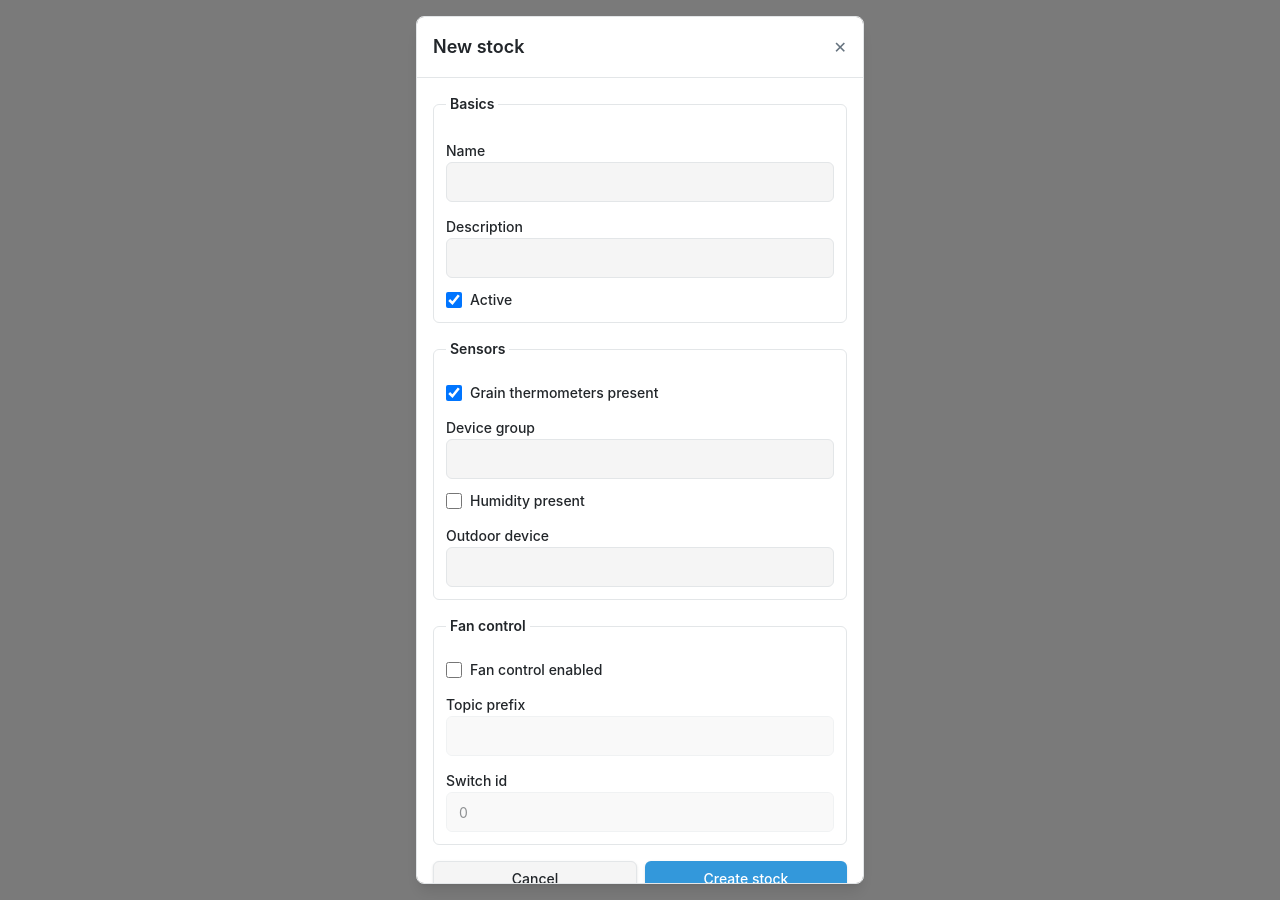
Test: StockFormDialog validation › rejects fan control without a topic prefix
The width and height of the screenshot is (1280, 900).
Type "Halle Süd" into the field labelled "Name".
click(640, 182); type("Halle Süd")  # box [446,162,834,202]
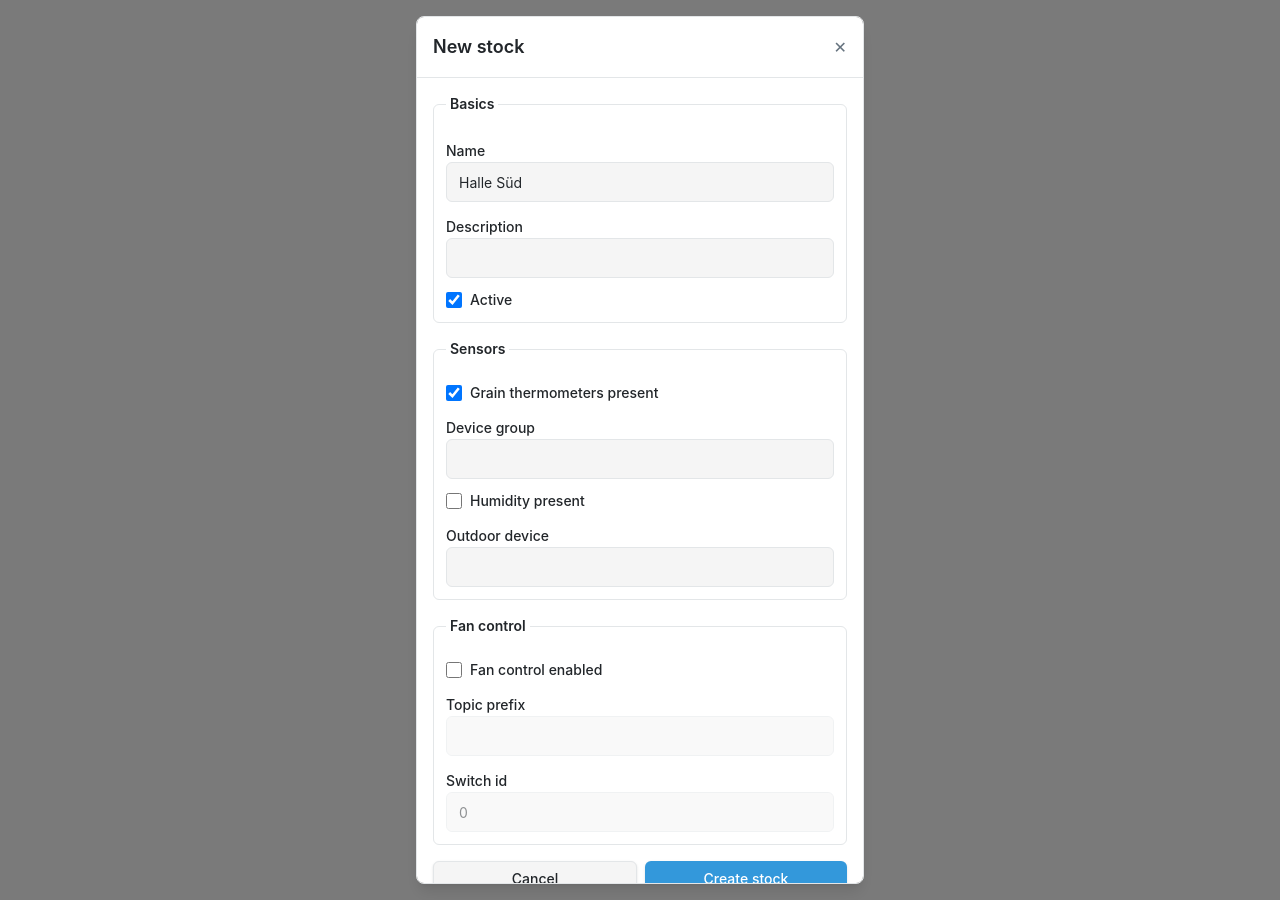
Type "grain-watch-2" into the field labelled "Device group".
click(640, 459); type("grain-watch-2")  # box [446,439,834,479]
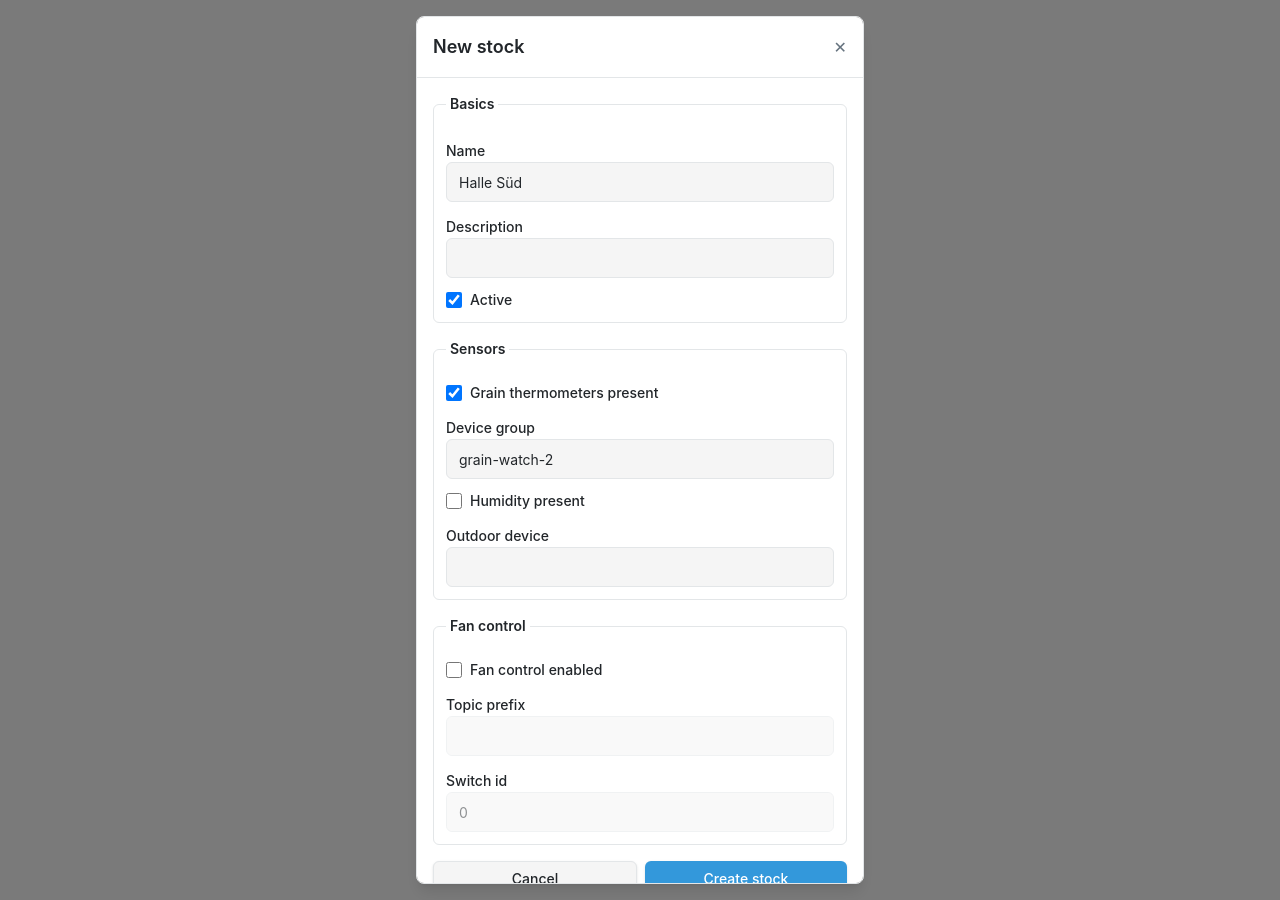
Click the checkbox labelled "Fan control enabled".
click(454, 670)  # box [446,662,462,678]
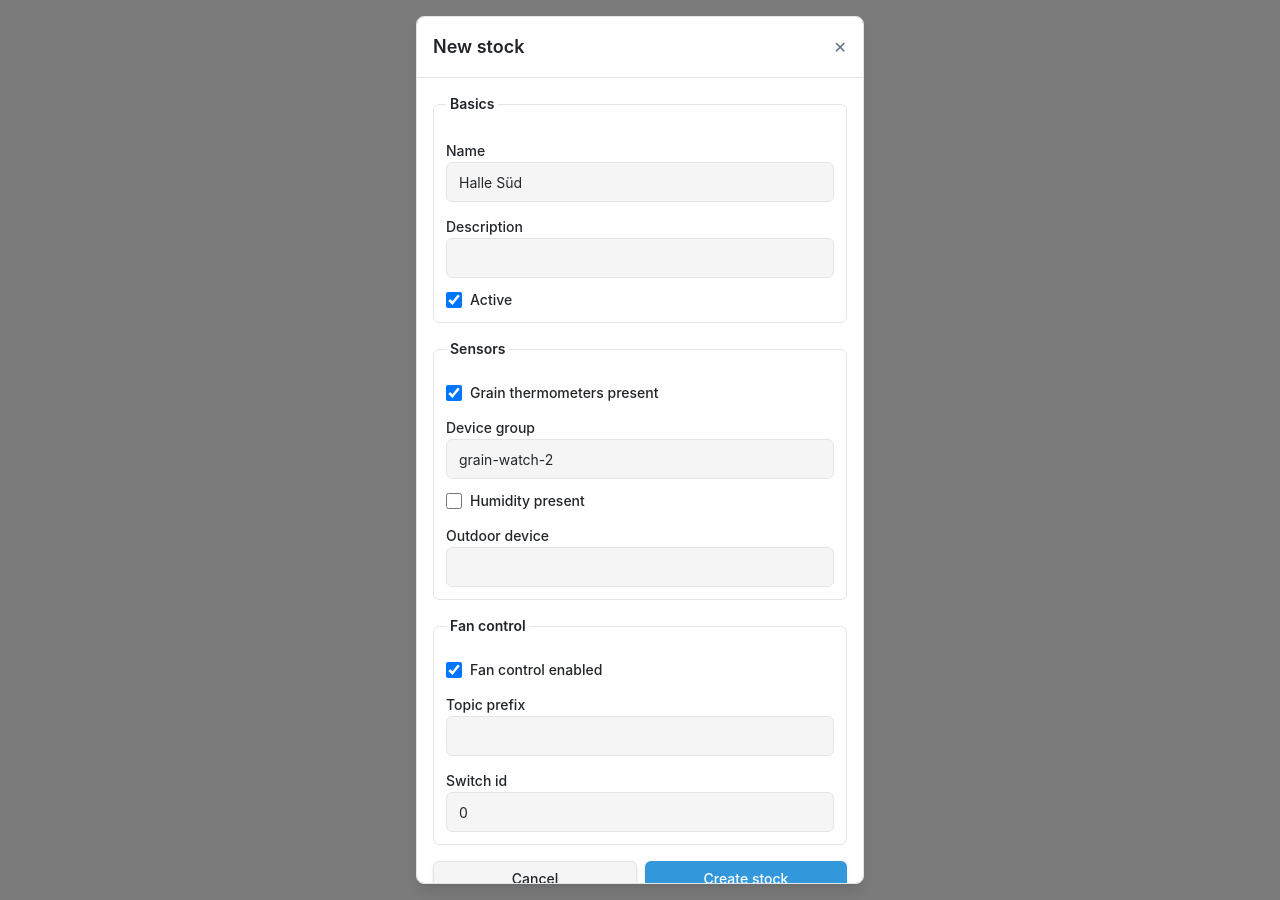
Click the button "Create stock".
click(746, 879)  # box [645,861,847,897]
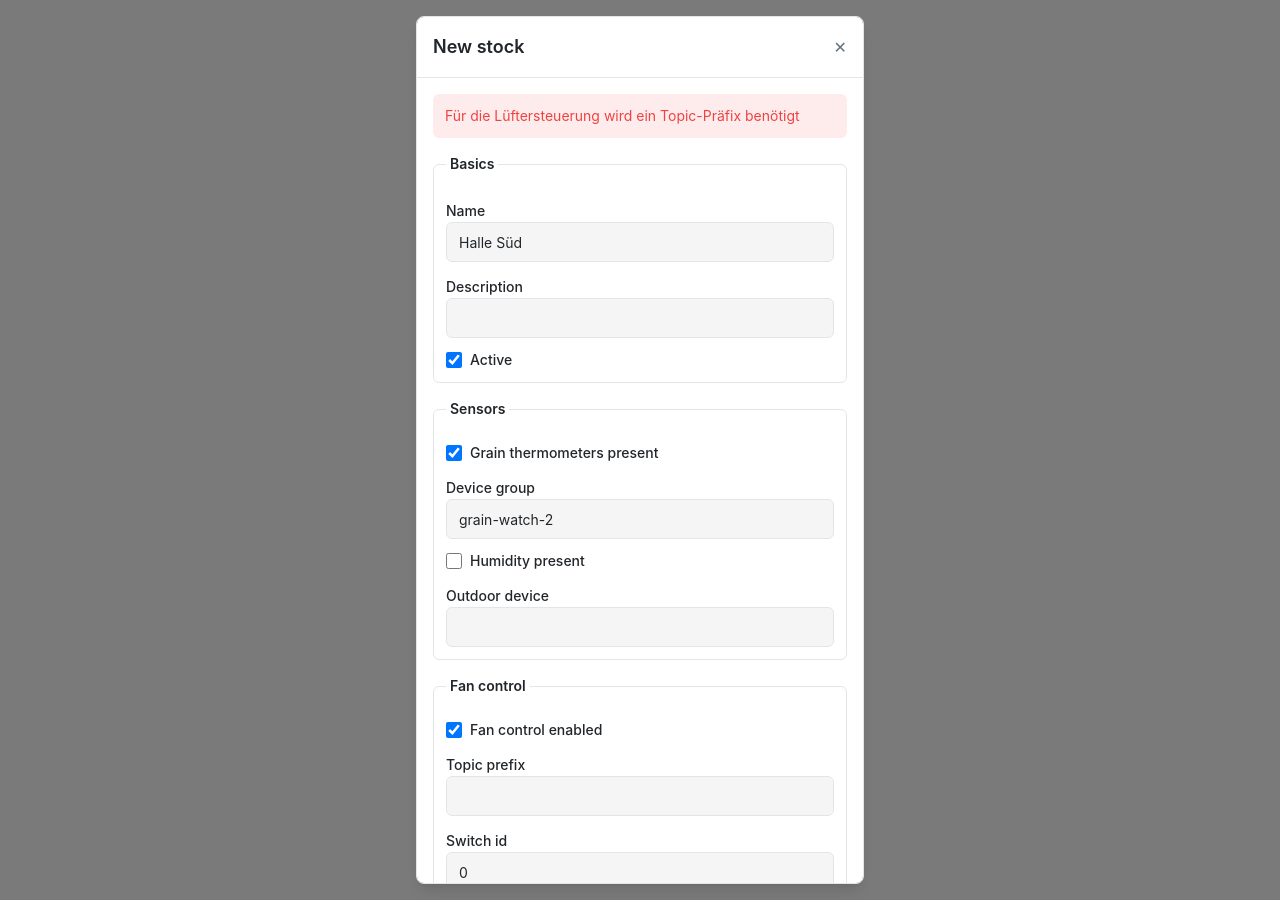
Result: the text "Für die Lüftersteuerung wird ein Topic-Präfix benötigt" is shown at [433,94,847,138]
